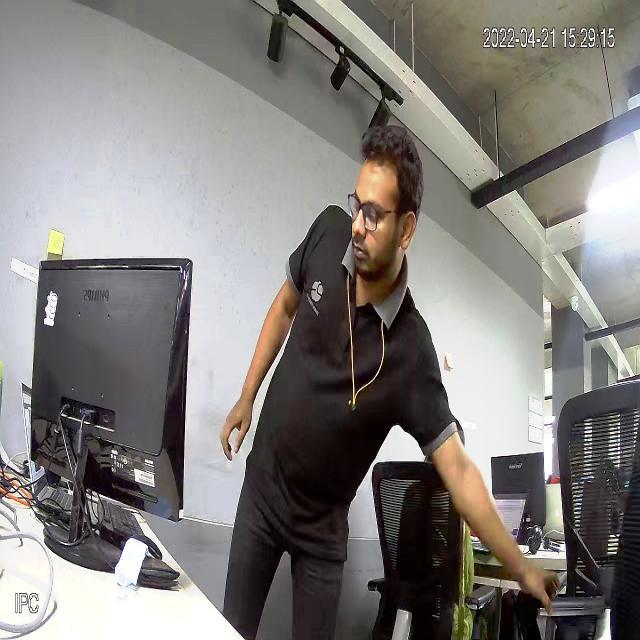Knife: (537, 589, 606, 627)
